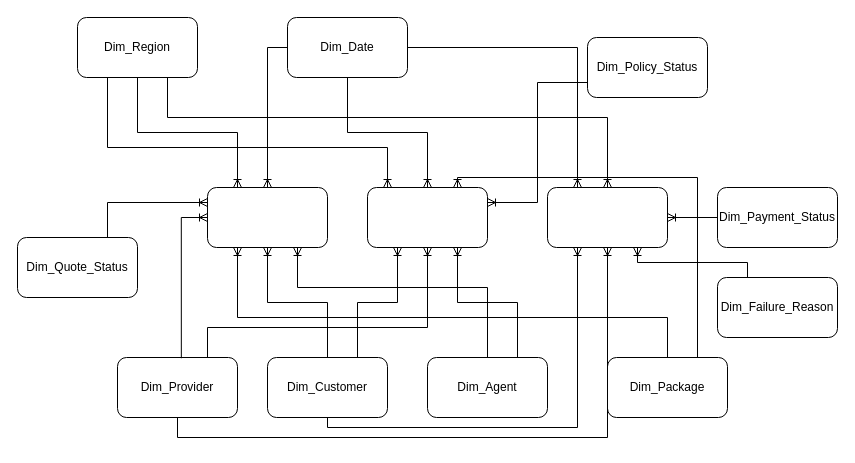
The diagram is 855 pixels wide and 463 high, and some of its shapes have lost their labels. The centre of each missing label's shape, as x and y in pixels:
"Fact_Payment" goes at point (607, 217).
"Fact_Policy" goes at point (427, 217).
"Fact_Quotation" goes at point (267, 217).
